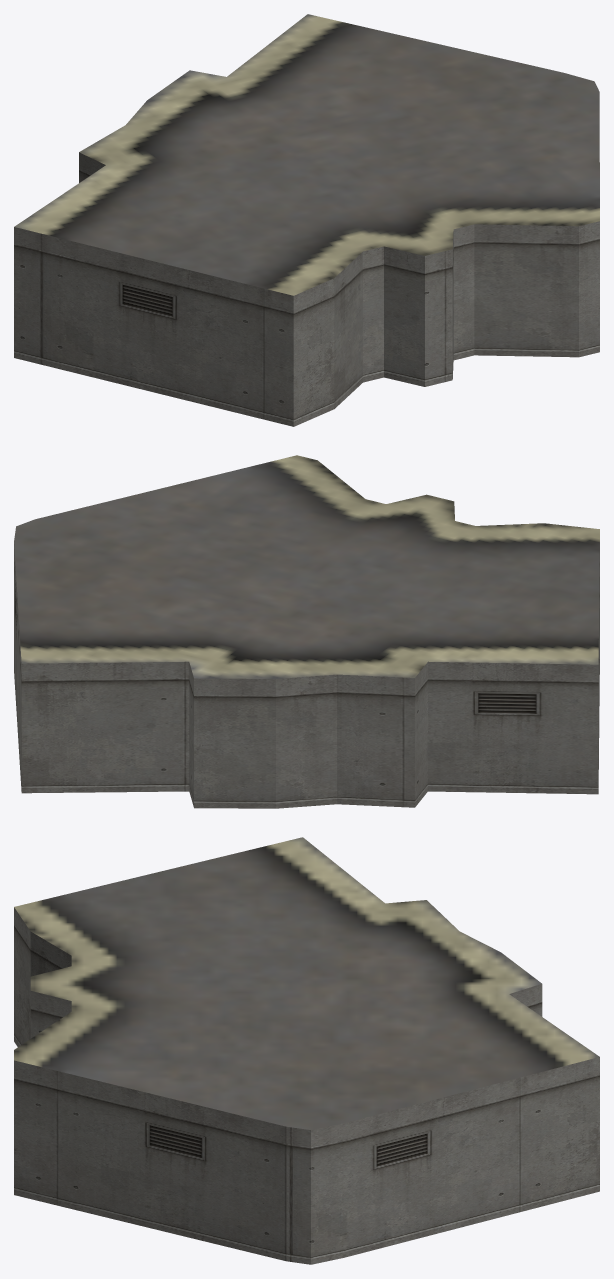
Rendered from building_medium_22.glb.
3 renders of one model, top to bottom at view 1: azimuth 30°, elevation 25°; view 2: azimuth 150°, elevation 25°; view 3: azimuth 270°, elevation 25°, orthographic. The views are drawn at different scales.
Parts seen in each view (by area): view 1: buildings/saxarba/building_medium/building_medium_22; view 2: buildings/saxarba/building_medium/building_medium_22; view 3: buildings/saxarba/building_medium/building_medium_22.
Part boxes in pixels (x1,y1,x2,y2): buildings/saxarba/building_medium/building_medium_22: [14, 14, 599, 426]; buildings/saxarba/building_medium/building_medium_22: [14, 455, 599, 808]; buildings/saxarba/building_medium/building_medium_22: [14, 837, 599, 1264].
Size of the model in its own units: 84 by 18 by 71.
